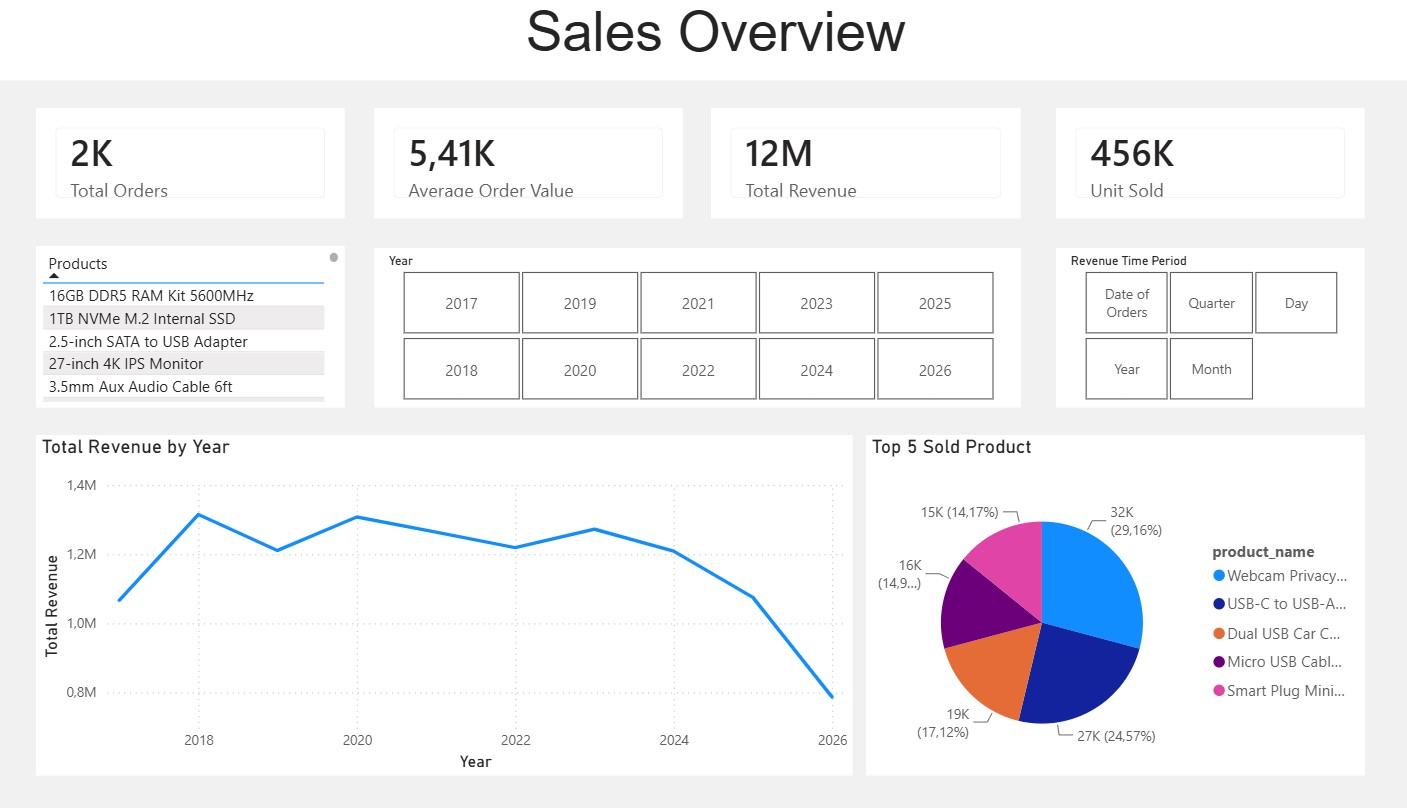

What the dashboard file says about the page in this screenshot:
{"tool":"powerbi","page":{"name":"Sales Overview","canvas":[1280,720],"ordinal":0},"visuals":[{"type":"cardVisual","fields":{"Data":["order_items.Total Revenue"]},"box":[631.8,98.8,272.3,96.9],"z":0},{"type":"cardVisual","fields":{"Data":["orders.Total Orders"]},"box":[39.7,98.8,271.3,96.9],"z":1000},{"type":"cardVisual","fields":{"Data":["order_items.Unit Sold"]},"box":[935,98.8,271.3,96.9],"z":2000},{"type":"cardVisual","fields":{"Data":["customers.Average Order Value"]},"box":[336.2,98.8,271.3,96.9],"z":3000},{"type":"lineChart","fields":{"Category":["orders.order_date","orders.order_date.Variation.Date Hierarchy.Year","orders.order_date.Variation.Date Hierarchy.Quarter","orders.order_date.Variation.Date Hierarchy.Month","orders.order_date.Variation.Date Hierarchy.Day"],"Y":["order_items.Total Revenue"]},"box":[39.7,386.6,717,299.4],"z":4000},{"type":"slicer","fields":{"Values":["orders.order_date.Variation.Date Hierarchy.Year"]},"box":[336.2,221.9,567.8,140.5],"z":5000},{"type":"slicer","fields":{"Values":["Revenue Time Period.Revenue Time Period"]},"box":[935,221.9,271.3,140.5],"z":6000},{"type":"textbox","box":[0,0,1280,74.9],"z":7000},{"type":"tableEx","fields":{"Values":["products.product_name"]},"box":[39.7,220,271.3,142.4],"z":8000},{"type":"pieChart","title":"Top 5 Sold Product","fields":{"Category":["products.product_name"],"Y":["order_items.Unit Sold"]},"box":[768.4,386.6,438,299.4],"z":9000}]}

Visuals, with their boxes in screenshot pixels (x1, y1, x2, y2), scaled from the page's 1280x720 canvas onto the 1407x808 screenshot:
cardVisual - order_items.Total Revenue: l=694, t=111, r=994, b=220
cardVisual - orders.Total Orders: l=44, t=111, r=342, b=220
cardVisual - order_items.Unit Sold: l=1028, t=111, r=1326, b=220
cardVisual - customers.Average Order Value: l=370, t=111, r=668, b=220
lineChart - orders.order_date x orders.order_date.Variation.Date Hierarchy.Year: l=44, t=434, r=832, b=770
slicer - orders.order_date.Variation.Date Hierarchy.Year: l=370, t=249, r=994, b=407
slicer - Revenue Time Period.Revenue Time Period: l=1028, t=249, r=1326, b=407
textbox: l=0, t=0, r=1406, b=84
tableEx - products.product_name: l=44, t=247, r=342, b=407
"Top 5 Sold Product" pieChart: l=845, t=434, r=1326, b=770
